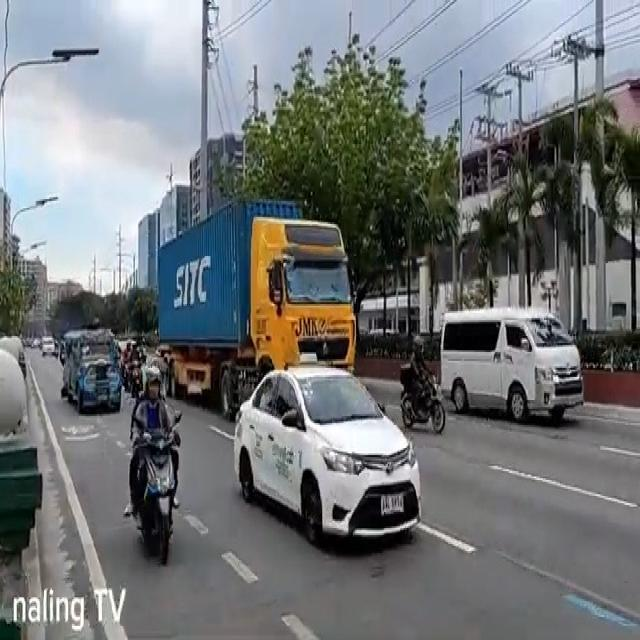car: (233, 362, 422, 552), (440, 306, 584, 428)
jeepney: (61, 328, 122, 416)
motorcycle: (128, 363, 180, 566), (401, 334, 445, 436)
truck: (156, 198, 357, 417)
